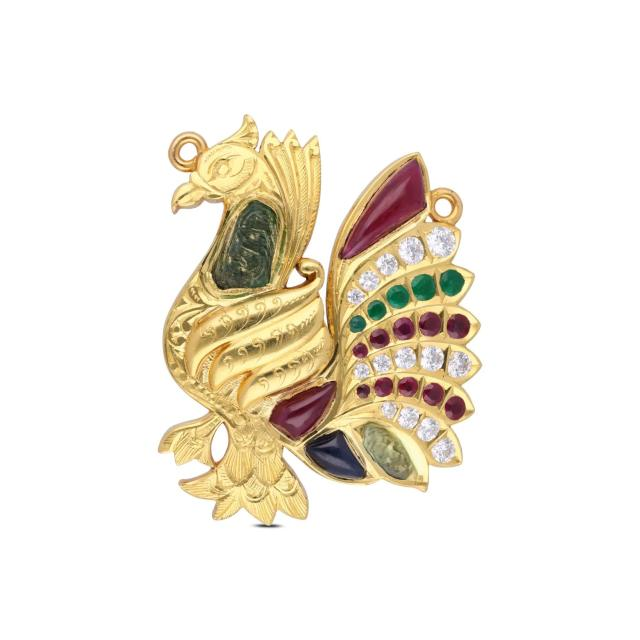missing gem: (212, 200, 280, 291), (355, 425, 419, 481)
